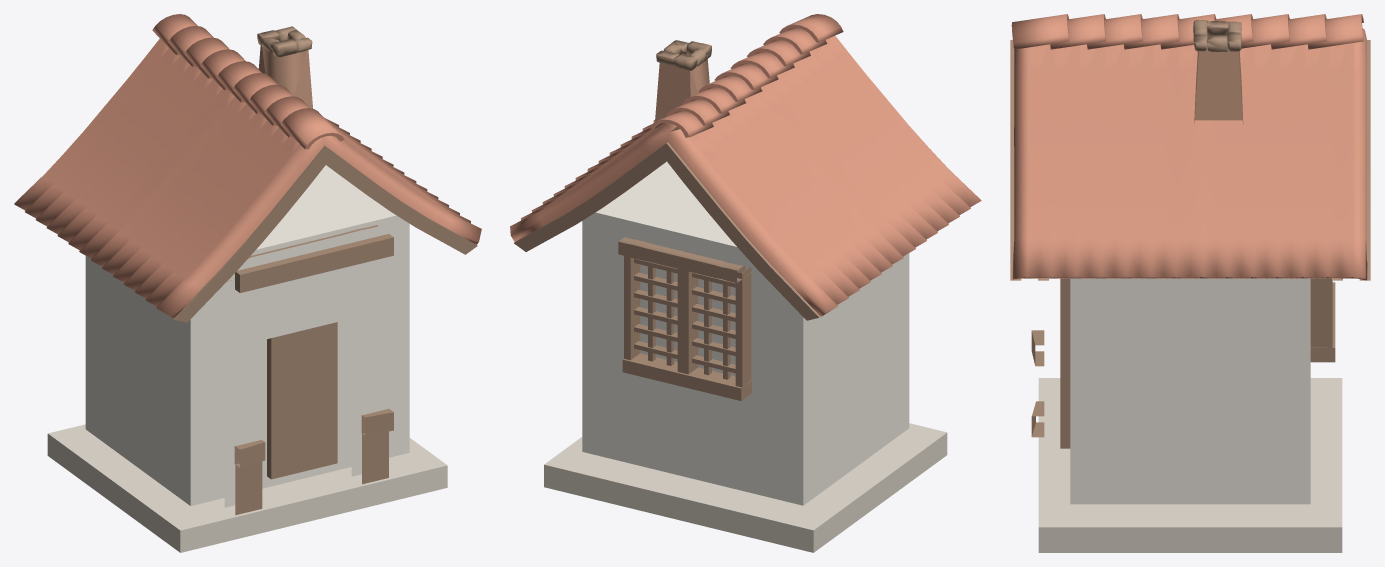
Rendered from cottage-timber.glb.
The picture shows the model from 3 angles, left to right: view 1: azimuth 30°, elevation 25°; view 2: azimuth 150°, elevation 25°; view 3: azimuth 270°, elevation 25°; orthographic projection. The views are drawn at different scales.
Visible parts, largest first — view 1: cottage; view 2: cottage; view 3: cottage.
Part boxes in pixels (x1,y1,x2,y2): cottage: [14, 14, 481, 552]; cottage: [510, 14, 981, 552]; cottage: [1010, 14, 1370, 552].
Size of the model in its own units: 0.9425 by 1.15 by 0.7882.
